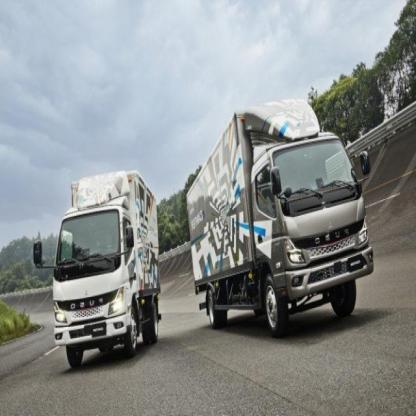truck: (187, 97, 377, 339), (34, 166, 166, 369)
